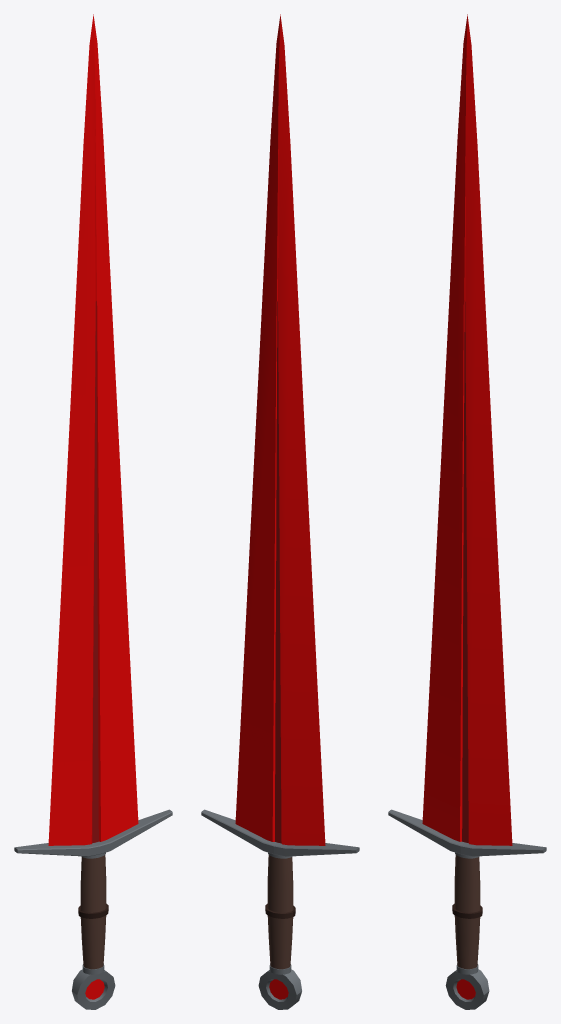
Rendered from SM_Sword06_Dagesse__5Fantasy_Red.fbx.
3 renders of one model, left to right at view 1: azimuth 30°, elevation 25°; view 2: azimuth 150°, elevation 25°; view 3: azimuth 330°, elevation 25°, orthographic.
Visible parts, largest first — view 1: Cube.363, Cylinder.490, Cube.362, Cylinder.491; view 2: Cube.363, Cylinder.490, Cube.362, Cylinder.491; view 3: Cube.363, Cylinder.490, Cube.362, Cylinder.491.
Boxes of the visible parts, <box> form: Cube.363: <box>48,14,138,845</box>; Cylinder.490: <box>78,852,108,974</box>; Cube.362: <box>14,809,172,856</box>; Cylinder.491: <box>72,969,115,1009</box>; Cube.363: <box>235,14,325,845</box>; Cylinder.490: <box>265,852,295,974</box>; Cube.362: <box>201,809,359,856</box>; Cylinder.491: <box>258,969,301,1009</box>; Cube.363: <box>422,14,512,845</box>; Cylinder.490: <box>452,852,482,974</box>; Cube.362: <box>388,809,546,856</box>; Cylinder.491: <box>445,969,489,1009</box>.
Bounding box in the file's own units: 0.154 × 0.9449 × 0.0231.
